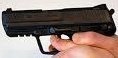pistol: (1, 2, 118, 55)
